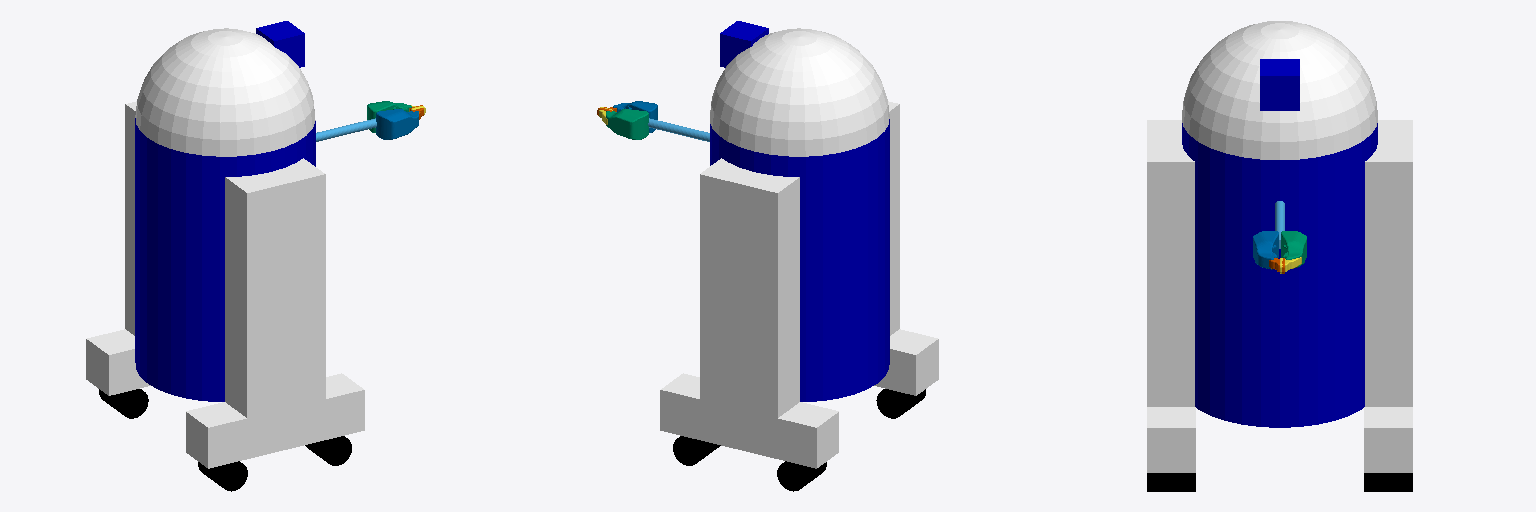
The robot description file, URDF, robot "physics":
<?xml version="1.0"?>
<robot name="physics">

<material name="blue">
    <color rgba="0 0 0.8 1"/>
  </material>
  <material name="black">
    <color rgba="0 0 0 1"/>
  </material>
  <material name="white">
    <color rgba="1 1 1 1"/>
  </material>

  <link name="base_link">
    <visual>
      <geometry>
        <cylinder length="0.6" radius="0.2"/>
      </geometry>
      <material name="blue"/>
    </visual>
    <collision>
      <geometry>
        <cylinder length="0.6" radius="0.2"/>
      </geometry>
    </collision>
    <inertial>
      <mass value="10"/>
      <inertia ixx="1e-3" ixy="0.0" ixz="0.0" iyy="1e-3" iyz="0.0" izz="1e-3"/>
    </inertial>
  </link>

  <link name="right_leg">
    <visual>
      <geometry>
        <box size="0.6 0.1 0.2"/>
      </geometry>
      <origin rpy="0 1.57075 0" xyz="0 0 -0.3"/>
      <material name="white"/>
    </visual>
    <collision>
      <geometry>
        <box size="0.6 0.1 0.2"/>
      </geometry>
      <origin rpy="0 1.57075 0" xyz="0 0 -0.3"/>
    </collision>
    <inertial>
      <mass value="10"/>
      <inertia ixx="1e-3" ixy="0.0" ixz="0.0" iyy="1e-3" iyz="0.0" izz="1e-3"/>
    </inertial>
  </link>
  <joint name="base_to_right_leg" type="fixed">
    <parent link="base_link"/>
    <child link="right_leg"/>
    <origin xyz="0 -0.22 0.25"/>
  </joint>

  <link name="right_base">
    <visual>
      <geometry>
        <box size="0.4 0.1 0.1"/>
      </geometry>
      <material name="white"/>
    </visual>
    <collision>
      <geometry>
        <box size="0.4 0.1 0.1"/>
      </geometry>
    </collision>
    <inertial>
      <mass value="10"/>
      <inertia ixx="1e-3" ixy="0.0" ixz="0.0" iyy="1e-3" iyz="0.0" izz="1e-3"/>
    </inertial>
  </link>

  <joint name="right_base_joint" type="fixed">
    <parent link="right_leg"/>
    <child link="right_base"/>
    <origin xyz="0 0 -0.6"/>
  </joint>

  <link name="right_front_wheel">
    <visual>
      <origin rpy="1.57075 0 0" xyz="0 0 0"/>
      <geometry>
        <cylinder length="0.1" radius="0.035"/>
      </geometry>
      <material name="black"/>
    </visual>
    <collision>
      <origin rpy="1.57075 0 0" xyz="0 0 0"/>
      <geometry>
        <cylinder length="0.1" radius="0.035"/>
      </geometry>
    </collision>
    <inertial>
      <mass value="1"/>
      <inertia ixx="1e-3" ixy="0.0" ixz="0.0" iyy="1e-3" iyz="0.0" izz="1e-3"/>
    </inertial>
  </link>

  <joint name="right_front_wheel_joint" type="continuous">
    <axis rpy="0 0 0" xyz="0 1 0"/>
    <parent link="right_base"/>
    <child link="right_front_wheel"/>
    <origin rpy="0 0 0" xyz="0.133333333333 0 -0.085"/>
  </joint>

  <link name="right_back_wheel">
    <visual>
      <origin rpy="1.57075 0 0" xyz="0 0 0"/>
      <geometry>
        <cylinder length="0.1" radius="0.035"/>
      </geometry>
      <material name="black"/>
    </visual>
    <collision>
      <origin rpy="1.57075 0 0" xyz="0 0 0"/>
      <geometry>
        <cylinder length="0.1" radius="0.035"/>
      </geometry>
    </collision>
    <inertial>
      <mass value="1"/>
      <inertia ixx="1e-3" ixy="0.0" ixz="0.0" iyy="1e-3" iyz="0.0" izz="1e-3"/>
    </inertial>
  </link>

  <joint name="right_back_wheel_joint" type="continuous">
    <axis rpy="0 0 0" xyz="0 1 0"/>
    <parent link="right_base"/>
    <child link="right_back_wheel"/>
    <origin rpy="0 0 0" xyz="-0.133333333333 0 -0.085"/>
  </joint>

  <link name="left_leg">
    <visual>
      <geometry>
        <box size="0.6 0.1 0.2"/>
      </geometry>
      <origin rpy="0 1.57075 0" xyz="0 0 -0.3"/>
      <material name="white"/>
    </visual>
    <collision>
      <geometry>
        <box size="0.6 0.1 0.2"/>
      </geometry>
      <origin rpy="0 1.57075 0" xyz="0 0 -0.3"/>
    </collision>
    <inertial>
      <mass value="10"/>
      <inertia ixx="1e-3" ixy="0.0" ixz="0.0" iyy="1e-3" iyz="0.0" izz="1e-3"/>
    </inertial>
  </link>

  <joint name="base_to_left_leg" type="fixed">
    <parent link="base_link"/>
    <child link="left_leg"/>
    <origin xyz="0 0.22 0.25"/>
  </joint>

  <link name="left_base">
    <visual>
      <geometry>
        <box size="0.4 0.1 0.1"/>
      </geometry>
      <material name="white"/>
    </visual>
    <collision>
      <geometry>
        <box size="0.4 0.1 0.1"/>
      </geometry>
    </collision>
    <inertial>
      <mass value="10"/>
      <inertia ixx="1e-3" ixy="0.0" ixz="0.0" iyy="1e-3" iyz="0.0" izz="1e-3"/>
    </inertial>
  </link>

  <joint name="left_base_joint" type="fixed">
    <parent link="left_leg"/>
    <child link="left_base"/>
    <origin xyz="0 0 -0.6"/>
  </joint>

  <link name="left_front_wheel">
    <visual>
      <origin rpy="1.57075 0 0" xyz="0 0 0"/>
      <geometry>
        <cylinder length="0.1" radius="0.035"/>
      </geometry>
      <material name="black"/>
    </visual>
    <collision>
      <origin rpy="1.57075 0 0" xyz="0 0 0"/>
      <geometry>
        <cylinder length="0.1" radius="0.035"/>
      </geometry>
    </collision>
    <inertial>
      <mass value="1"/>
      <inertia ixx="1e-3" ixy="0.0" ixz="0.0" iyy="1e-3" iyz="0.0" izz="1e-3"/>
    </inertial>
  </link>

  <joint name="left_front_wheel_joint" type="continuous">
    <axis rpy="0 0 0" xyz="0 1 0"/>
    <parent link="left_base"/>
    <child link="left_front_wheel"/>
    <origin rpy="0 0 0" xyz="0.133333333333 0 -0.085"/>
  </joint>

  <link name="left_back_wheel">
    <visual>
      <origin rpy="1.57075 0 0" xyz="0 0 0"/>
      <geometry>
        <cylinder length="0.1" radius="0.035"/>
      </geometry>
      <material name="black"/>
    </visual>
    <collision>
      <origin rpy="1.57075 0 0" xyz="0 0 0"/>
      <geometry>
        <cylinder length="0.1" radius="0.035"/>
      </geometry>
    </collision>
    <inertial>
      <mass value="1"/>
      <inertia ixx="1e-3" ixy="0.0" ixz="0.0" iyy="1e-3" iyz="0.0" izz="1e-3"/>
    </inertial>
  </link>

  <joint name="left_back_wheel_joint" type="continuous">
    <axis rpy="0 0 0" xyz="0 1 0"/>
    <parent link="left_base"/>
    <child link="left_back_wheel"/>
    <origin rpy="0 0 0" xyz="-0.133333333333 0 -0.085"/>
  </joint>

  <joint name="gripper_extension" type="prismatic">
    <parent link="base_link"/>
    <child link="gripper_pole"/>
    <limit effort="1000.0" lower="-0.38" upper="0" velocity="0.5"/>
    <origin rpy="0 0 0" xyz="0.19 0 0.2"/>
  </joint>

  <link name="gripper_pole">
    <visual>
      <geometry>
        <cylinder length="0.2" radius="0.01"/>
      </geometry>
      <origin rpy="0 1.57075 0 " xyz="0.1 0 0"/>
    </visual>
    <collision>
      <geometry>
        <cylinder length="0.2" radius="0.01"/>
      </geometry>
      <origin rpy="0 1.57075 0 " xyz="0.1 0 0"/>
    </collision>
    <inertial>
      <mass value="0.05"/>
      <inertia ixx="1e-3" ixy="0.0" ixz="0.0" iyy="1e-3" iyz="0.0" izz="1e-3"/>
    </inertial>
  </link>

  <joint name="left_gripper_joint" type="revolute">
    <axis xyz="0 0 1"/>
    <limit effort="1000.0" lower="0.0" upper="0.548" velocity="0.5"/>
    <origin rpy="0 0 0" xyz="0.2 0.01 0"/>
    <parent link="gripper_pole"/>
    <child link="left_gripper"/>
  </joint>

  <link name="left_gripper">
    <visual>
      <origin rpy="0.0 0 0" xyz="0 0 0"/>
      <geometry>
        <mesh filename="package://urdf_tutorial/meshes/l_finger.dae"/>
      </geometry>
    </visual>
    <collision>
      <geometry>
        <mesh filename="package://urdf_tutorial/meshes/l_finger.dae"/>
      </geometry>
      <origin rpy="0.0 0 0" xyz="0 0 0"/>
    </collision>
    <inertial>
      <mass value="0.05"/>
      <inertia ixx="1e-3" ixy="0.0" ixz="0.0" iyy="1e-3" iyz="0.0" izz="1e-3"/>
    </inertial>
  </link>

  <joint name="left_tip_joint" type="fixed">
    <parent link="left_gripper"/>
    <child link="left_tip"/>
  </joint>

  <link name="left_tip">
    <visual>
      <origin rpy="0.0 0 0" xyz="0.09137 0.00495 0"/>
      <geometry>
        <mesh filename="package://urdf_tutorial/meshes/l_finger_tip.dae"/>
      </geometry>
    </visual>
    <collision>
      <geometry>
        <mesh filename="package://urdf_tutorial/meshes/l_finger_tip.dae"/>
      </geometry>
      <origin rpy="0.0 0 0" xyz="0.09137 0.00495 0"/>
    </collision>
    <inertial>
      <mass value="0.05"/>
      <inertia ixx="1e-3" ixy="0.0" ixz="0.0" iyy="1e-3" iyz="0.0" izz="1e-3"/>
    </inertial>
  </link>

  <joint name="right_gripper_joint" type="revolute">
    <axis xyz="0 0 -1"/>
    <limit effort="1000.0" lower="0.0" upper="0.548" velocity="0.5"/>
    <origin rpy="0 0 0" xyz="0.2 -0.01 0"/>
    <parent link="gripper_pole"/>
    <child link="right_gripper"/>
  </joint>

  <link name="right_gripper">
    <visual>
      <origin rpy="-3.1415 0 0" xyz="0 0 0"/>
      <geometry>
        <mesh filename="package://urdf_tutorial/meshes/l_finger.dae"/>
      </geometry>
    </visual>
    <collision>
      <geometry>
        <mesh filename="package://urdf_tutorial/meshes/l_finger.dae"/>
      </geometry>
      <origin rpy="-3.1415 0 0" xyz="0 0 0"/>
    </collision>
    <inertial>
      <mass value="0.05"/>
      <inertia ixx="1e-3" ixy="0.0" ixz="0.0" iyy="1e-3" iyz="0.0" izz="1e-3"/>
    </inertial>
  </link>

  <joint name="right_tip_joint" type="fixed">
    <parent link="right_gripper"/>
    <child link="right_tip"/>
  </joint>

  <link name="right_tip">
    <visual>
      <origin rpy="-3.1415 0 0" xyz="0.09137 0.00495 0"/>
      <geometry>
        <mesh filename="package://urdf_tutorial/meshes/l_finger_tip.dae"/>
      </geometry>
    </visual>
    <collision>
      <geometry>
        <mesh filename="package://urdf_tutorial/meshes/l_finger_tip.dae"/>
      </geometry>
      <origin rpy="-3.1415 0 0" xyz="0.09137 0.00495 0"/>
    </collision>
    <inertial>
      <mass value="0.05"/>
      <inertia ixx="1e-3" ixy="0.0" ixz="0.0" iyy="1e-3" iyz="0.0" izz="1e-3"/>
    </inertial>
  </link>

  <link name="head">
    <visual>
      <geometry>
        <sphere radius="0.2"/>
      </geometry>
      <material name="white"/>
    </visual>
    <collision>
      <geometry>
        <sphere radius="0.2"/>
      </geometry>
    </collision>
    <inertial>
      <mass value="2"/>
      <inertia ixx="1e-3" ixy="0.0" ixz="0.0" iyy="1e-3" iyz="0.0" izz="1e-3"/>
    </inertial>
  </link>

  <joint name="head_swivel" type="continuous">
    <parent link="base_link"/>
    <child link="head"/>
    <axis xyz="0 0 1"/>
    <origin xyz="0 0 0.3"/>
  </joint>

  <link name="box">
    <visual>
      <geometry>
        <box size="0.08 0.08 0.08"/>
      </geometry>
      <material name="blue"/>
      <origin xyz="-0.04 0 0"/>
    </visual>
    <collision>
      <geometry>
        <box size="0.08 0.08 0.08"/>
      </geometry>
    </collision>
    <inertial>
      <mass value="1"/>
      <inertia ixx="1e-3" ixy="0.0" ixz="0.0" iyy="1e-3" iyz="0.0" izz="1e-3"/>
    </inertial>
  </link>

  <joint name="tobox" type="fixed">
    <parent link="head"/>
    <child link="box"/>
    <origin xyz="0.1814 0 0.1414"/>
  </joint>

</robot>

--- What the picture shows (computed from the rendered views, not written in the file) ---
Views: 3 orthographic renders of the robot side by side, from view 1: azimuth 30°, elevation 25°; view 2: azimuth 150°, elevation 25°; view 3: azimuth 270°, elevation 25°.
Robot: physics — 16 links, 15 joints (2 revolute, 5 continuous, 1 prismatic, 7 fixed); root link base_link; default pose: all joints at 0.
Visible links, largest first — view 1: right_leg, base_link, head, right_base, left_base, left_leg, box, right_gripper, left_back_wheel, right_back_wheel, right_front_wheel, gripper_pole; view 2: left_leg, base_link, head, left_base, right_base, right_leg, box, left_gripper, left_back_wheel, right_back_wheel, left_front_wheel, gripper_pole; view 3: base_link, head, right_leg, left_leg, right_base, left_base, box, right_front_wheel, left_front_wheel, right_gripper, left_gripper.
Boxes of the visible links, x1=… form: right_leg: x1=225, y1=158, x2=325, y2=438; base_link: x1=135, y1=118, x2=315, y2=401; head: x1=135, y1=28, x2=315, y2=156; right_base: x1=186, y1=373, x2=364, y2=468; left_base: x1=86, y1=329, x2=150, y2=395; left_leg: x1=125, y1=101, x2=136, y2=335; box: x1=256, y1=21, x2=304, y2=67; right_gripper: x1=376, y1=109, x2=418, y2=139; left_back_wheel: x1=99, y1=389, x2=148, y2=418; right_back_wheel: x1=198, y1=461, x2=247, y2=491; right_front_wheel: x1=305, y1=436, x2=351, y2=465; gripper_pole: x1=316, y1=118, x2=376, y2=141; left_leg: x1=700, y1=158, x2=799, y2=438; base_link: x1=710, y1=119, x2=889, y2=401; head: x1=710, y1=28, x2=889, y2=156; left_base: x1=660, y1=373, x2=838, y2=468; right_base: x1=874, y1=329, x2=938, y2=395; right_leg: x1=888, y1=101, x2=899, y2=335; box: x1=720, y1=21, x2=768, y2=67; left_gripper: x1=606, y1=109, x2=648, y2=139; left_back_wheel: x1=777, y1=461, x2=826, y2=491; right_back_wheel: x1=876, y1=389, x2=925, y2=418; left_front_wheel: x1=673, y1=436, x2=720, y2=465; gripper_pole: x1=648, y1=118, x2=709, y2=141; base_link: x1=1182, y1=123, x2=1377, y2=427; head: x1=1182, y1=21, x2=1377, y2=159; right_leg: x1=1147, y1=120, x2=1194, y2=406; left_leg: x1=1365, y1=120, x2=1412, y2=406; right_base: x1=1147, y1=407, x2=1195, y2=472; left_base: x1=1364, y1=407, x2=1412, y2=472; box: x1=1260, y1=59, x2=1299, y2=110; right_front_wheel: x1=1147, y1=473, x2=1195, y2=491; left_front_wheel: x1=1364, y1=473, x2=1412, y2=491; right_gripper: x1=1253, y1=231, x2=1278, y2=269; left_gripper: x1=1281, y1=231, x2=1306, y2=267.
Bounding box of the posed robot: 0.7126 × 0.54 × 0.97 m (x, y, z).
4 mesh visuals loaded from 2 distinct referenced files (2 Collada DAE).
